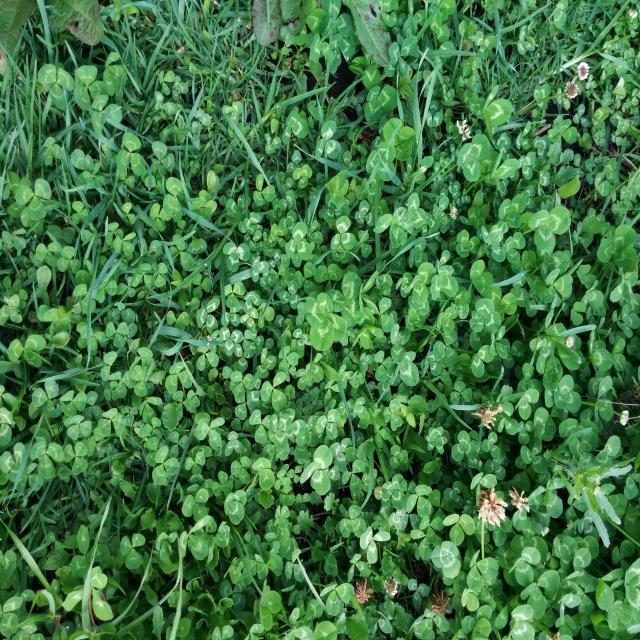Four Leaf Clover: (305, 292, 347, 352)
